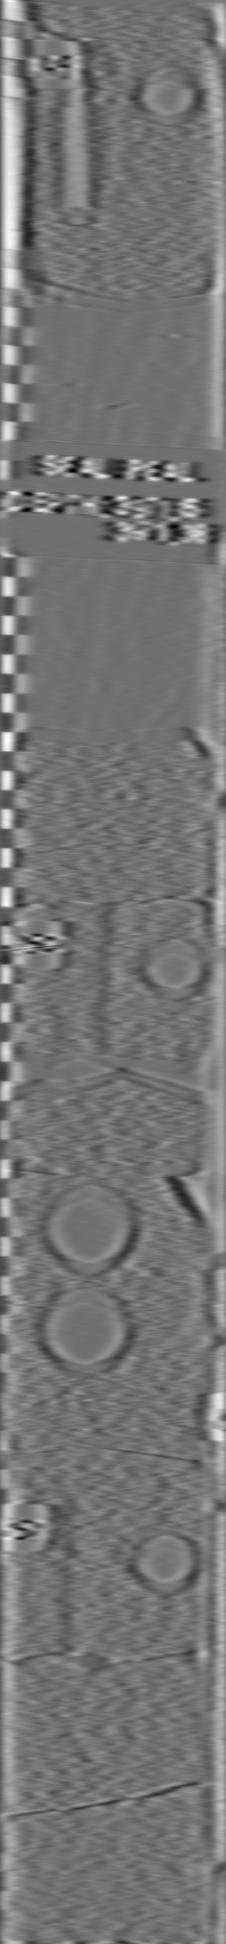hplug: (120, 1518, 202, 1601), (137, 921, 212, 1007), (132, 57, 210, 135)
scal: (32, 1284, 151, 1385), (38, 1179, 142, 1284)
vplug: (36, 43, 115, 233), (32, 893, 124, 1053), (1, 1493, 88, 1659)
